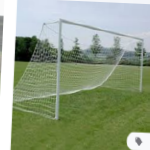goals: (17, 17, 145, 123)
